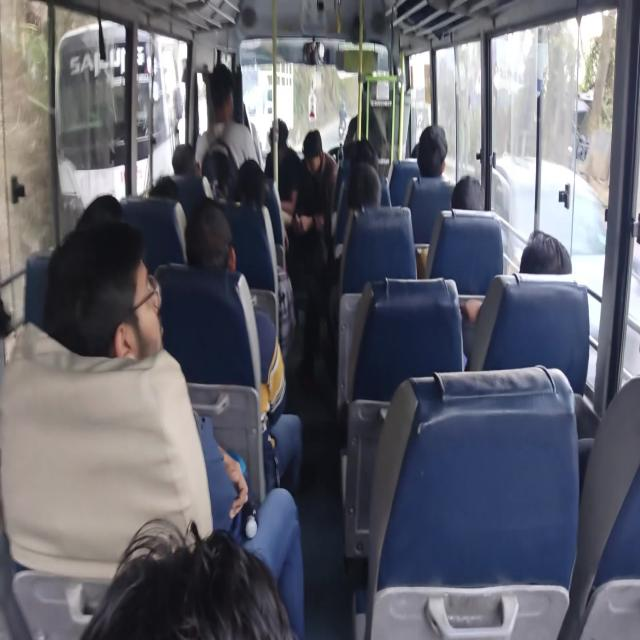person: (103, 471, 297, 640), (63, 234, 156, 388), (500, 198, 585, 302), (418, 121, 464, 199), (66, 208, 127, 253), (0, 305, 25, 406), (229, 180, 274, 220), (451, 170, 487, 218), (146, 178, 186, 219), (352, 168, 389, 212), (302, 137, 330, 186), (199, 221, 230, 263), (168, 144, 204, 180), (269, 130, 297, 172), (207, 69, 231, 117), (342, 131, 371, 165), (352, 132, 379, 164), (237, 156, 266, 185), (405, 139, 432, 169)
